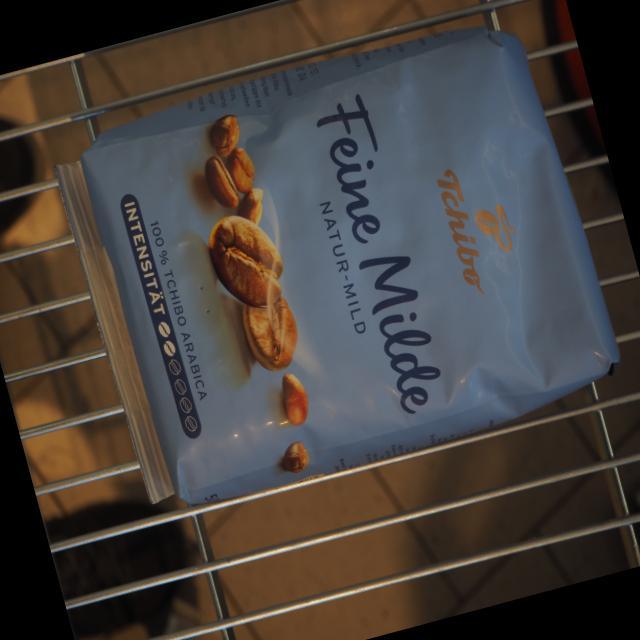FM Bohne: (41, 0, 636, 524)
